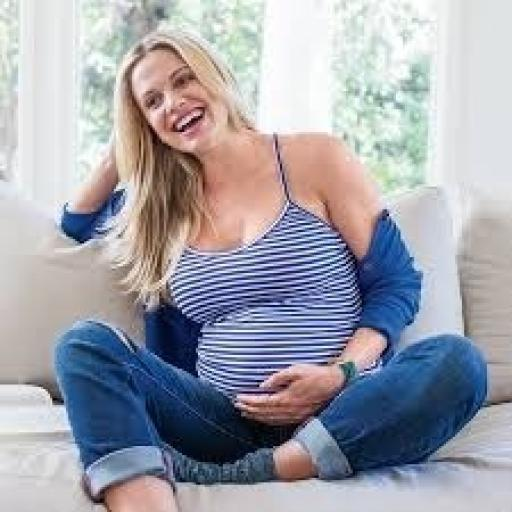laughing: (43, 22, 492, 510)
